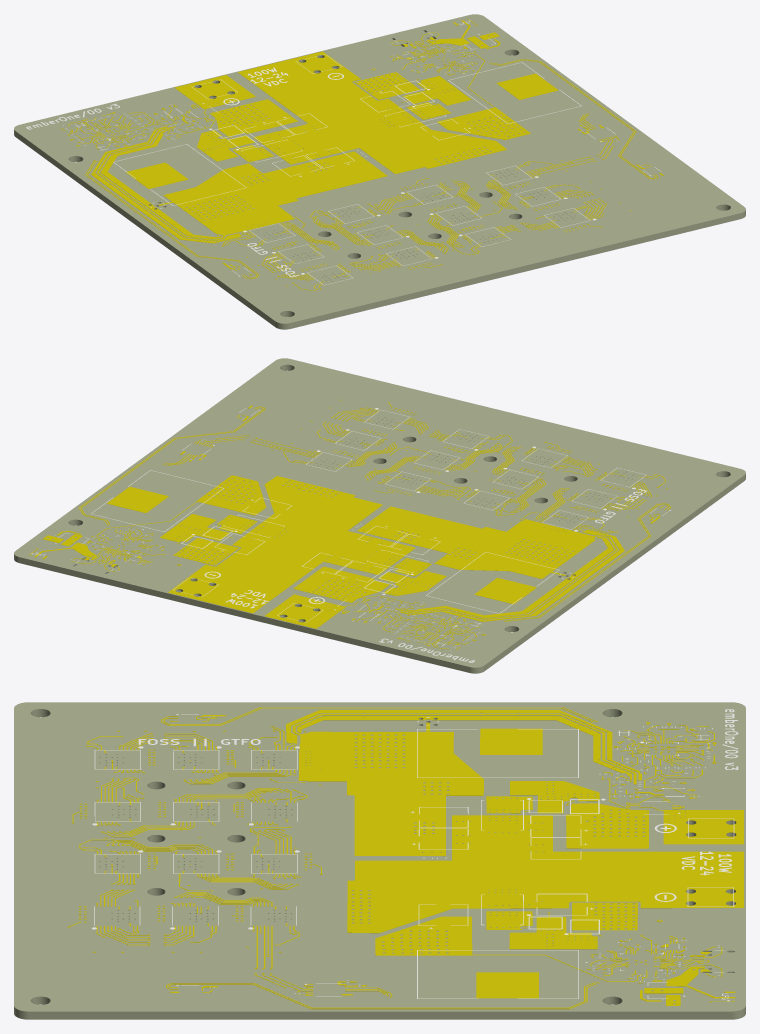
The model's file is emberone-opt.glb.
3 views of the same model, one above another, from view 1: azimuth 30°, elevation 25°; view 2: azimuth 150°, elevation 25°; view 3: azimuth 270°, elevation 25° (orthographic). The views are drawn at different scales.
Parts seen in each view (by area): view 1: =>[0:1:1:8], =>[0:1:1:2], =>[0:1:1:4]; view 2: =>[0:1:1:8], =>[0:1:1:2], =>[0:1:1:4]; view 3: =>[0:1:1:8], =>[0:1:1:2], =>[0:1:1:4].
Boxes of the visible parts, left/top/right/bottom form: =>[0:1:1:8]: left=14, top=14, right=745, bottom=329; =>[0:1:1:2]: left=61, top=19, right=663, bottom=290; =>[0:1:1:4]: left=26, top=20, right=660, bottom=285; =>[0:1:1:8]: left=14, top=358, right=745, bottom=673; =>[0:1:1:2]: left=29, top=399, right=670, bottom=649; =>[0:1:1:4]: left=31, top=408, right=670, bottom=662; =>[0:1:1:8]: left=14, top=702, right=745, bottom=1019; =>[0:1:1:2]: left=67, top=707, right=743, bottom=1009; =>[0:1:1:4]: left=92, top=709, right=738, bottom=1001.
Size of the model in its own units: 0.128 by 0.00166 by 0.128.
